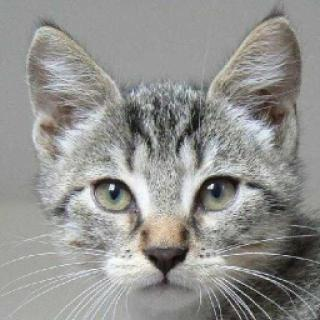cat: (23, 18, 306, 308)
nose: (129, 211, 202, 279)
